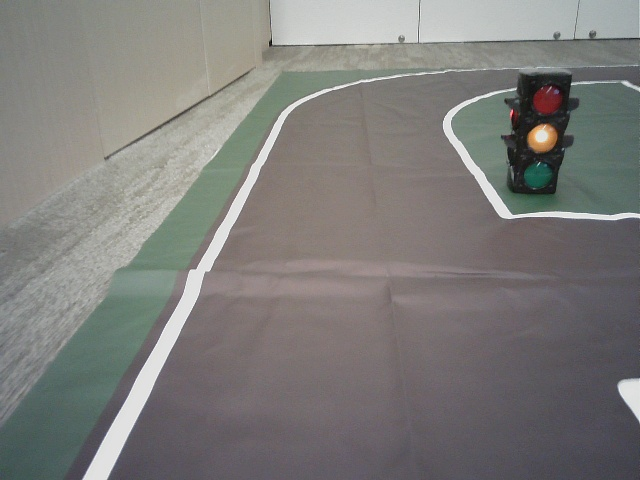yellow: (520, 82, 563, 189)
